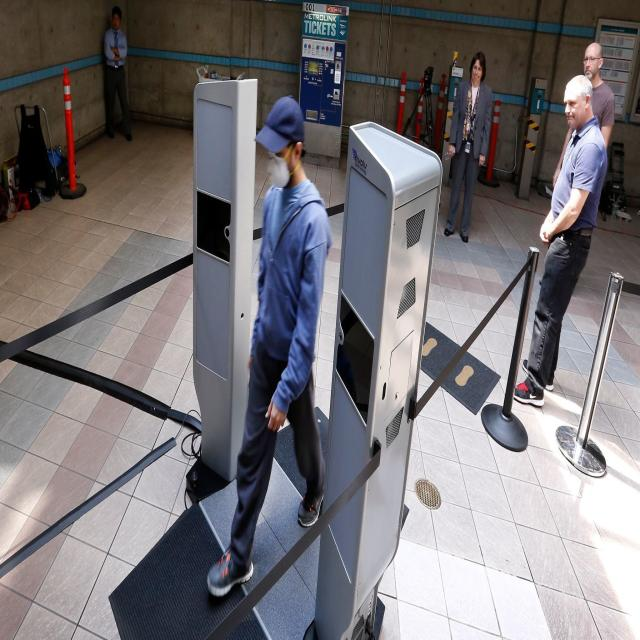body: (205, 90, 331, 602), (510, 71, 608, 408), (442, 45, 494, 246), (552, 42, 616, 191)
